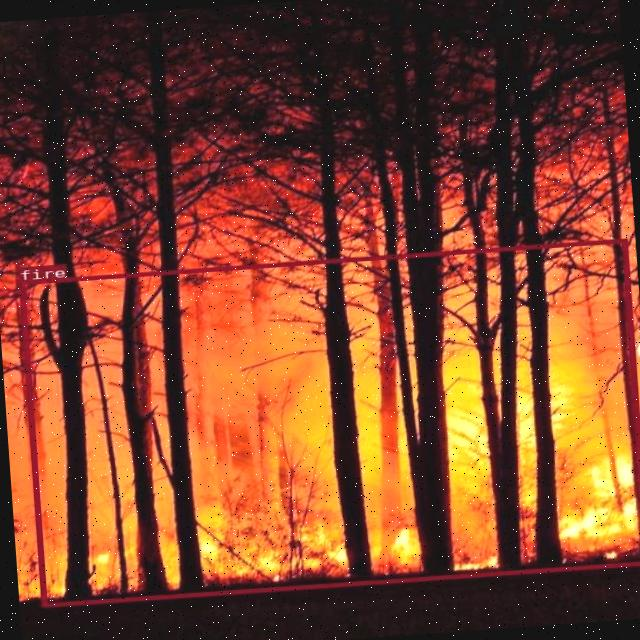fire: (17, 237, 640, 606)
